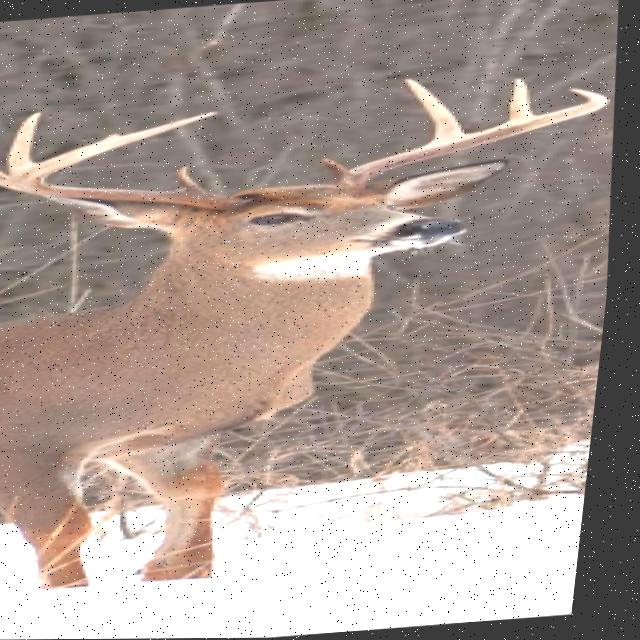L-F: (0, 111, 261, 211)
L-G1: (176, 165, 213, 191)
L-G3: (9, 111, 45, 174)
R-F: (334, 87, 614, 189)
R-G1: (322, 158, 353, 177)
R-G2: (404, 78, 471, 144)
R-G3: (509, 77, 539, 123)
